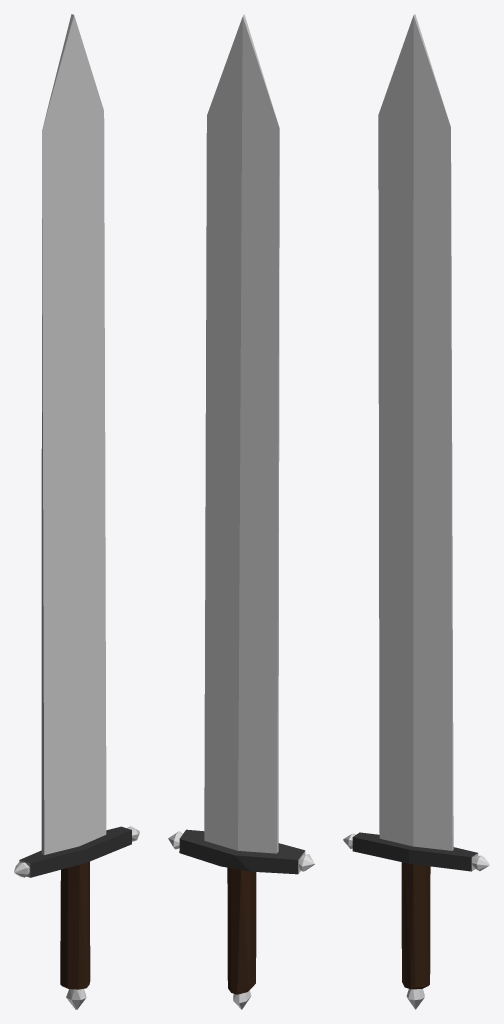
Rendered from sword.fbx.
3 renders of one model, left to right at view 1: azimuth 30°, elevation 25°; view 2: azimuth 150°, elevation 25°; view 3: azimuth 330°, elevation 25°, orthographic.
Visible parts, largest first — view 1: Cube.002; view 2: Cube.002; view 3: Cube.002.
Part boxes in pixels (box(x1,y1,x2,y2)): Cube.002: box(14, 14, 139, 1009); Cube.002: box(168, 14, 314, 1009); Cube.002: box(343, 14, 489, 1009).
Size of the model in its own units: 16.96 by 119 by 4.27.
